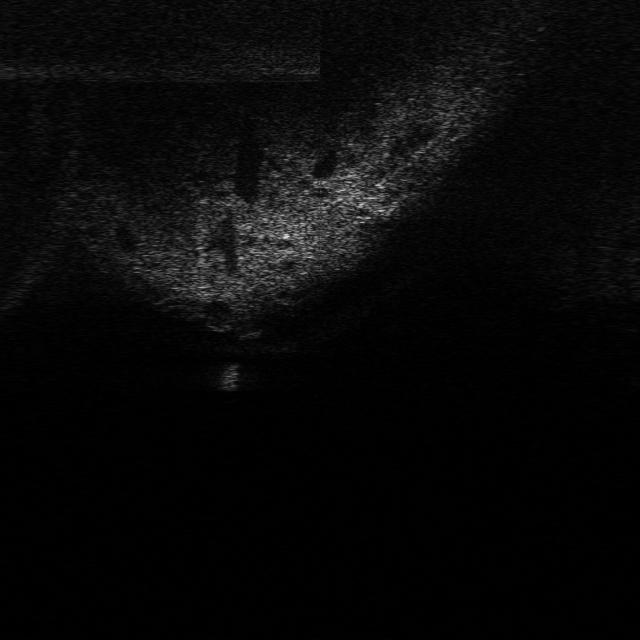cube: (231, 317, 268, 340)
cylinder: (216, 361, 243, 392)
